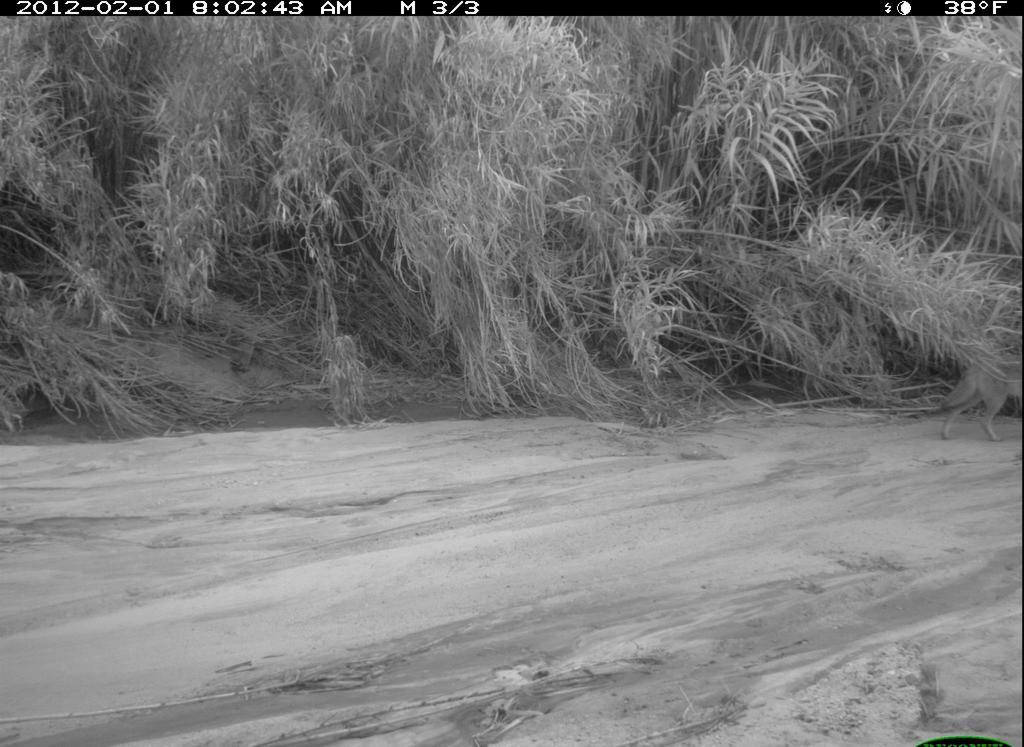coyote: (922, 295, 1022, 456)
